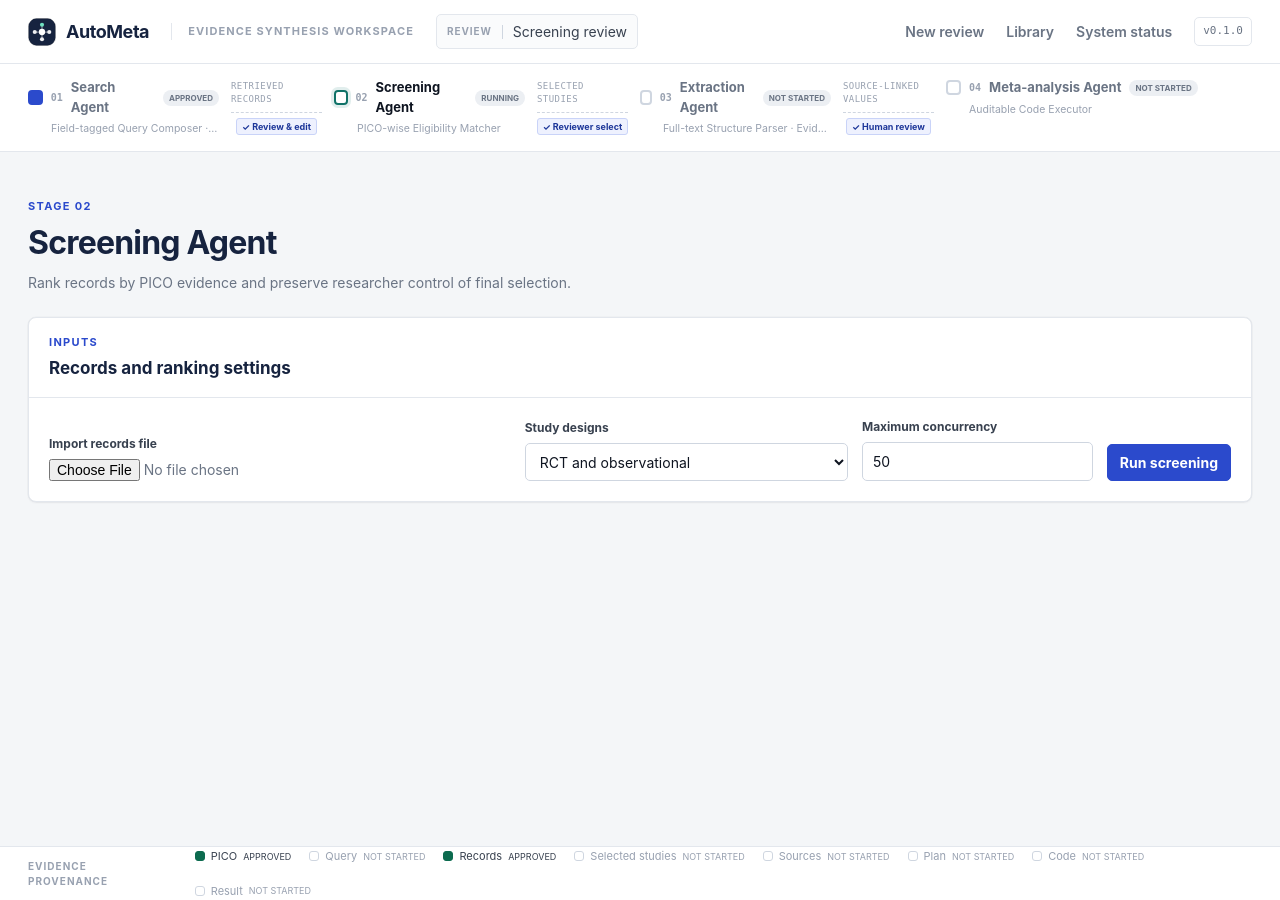
Test: ScreeningPage › starts durable screening with approved inputs
Click the button "Run screening" at (1169, 463), box [1107,444,1231,481]
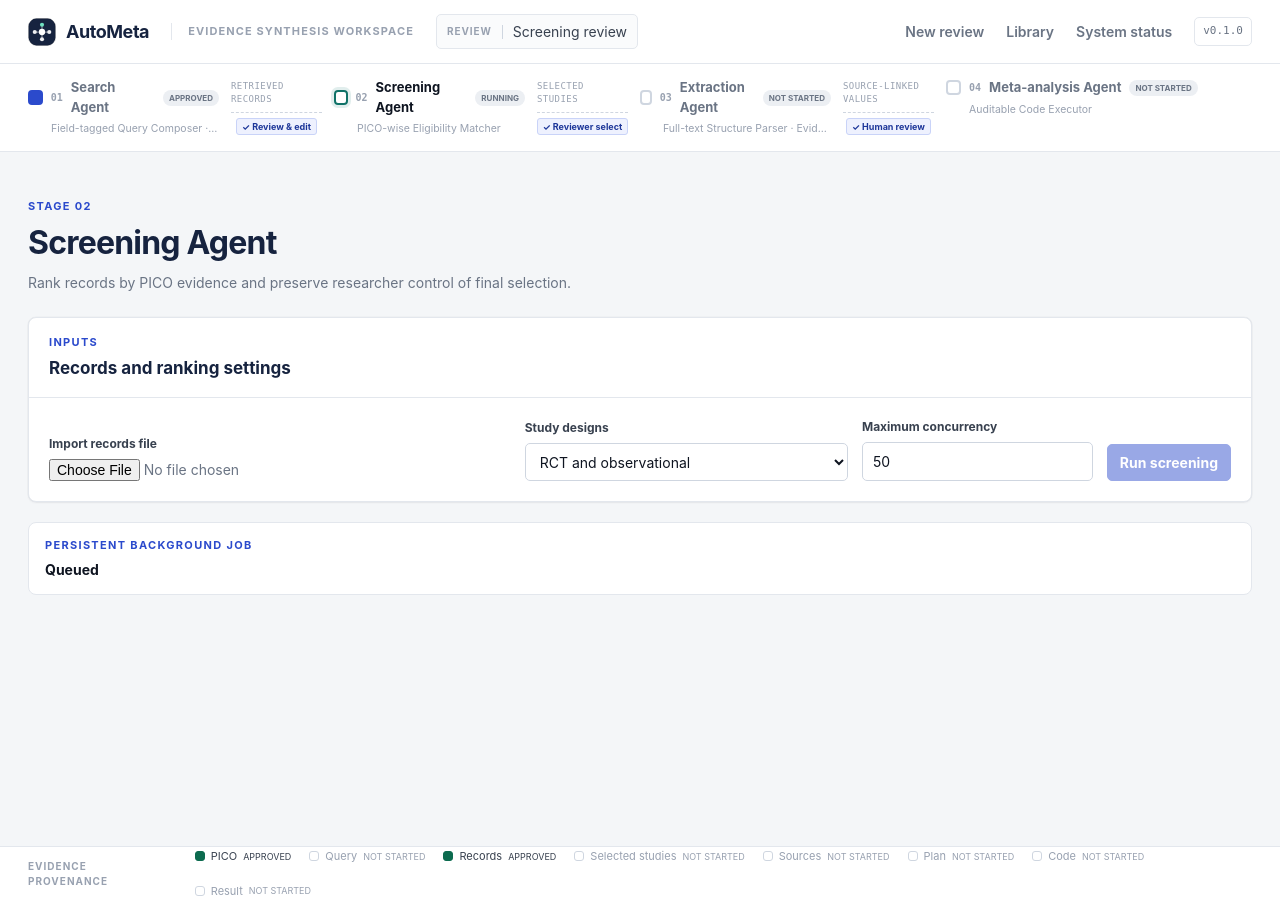
Check: the text "Queued" is shown, box [45,561,99,578]
